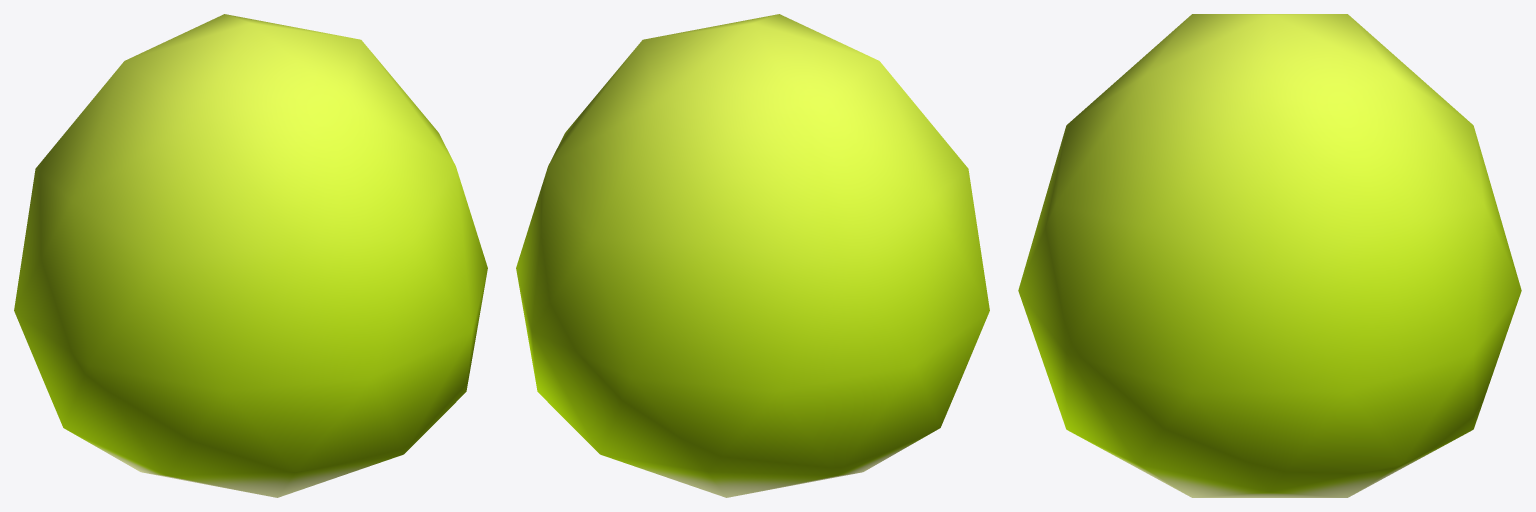
Rendered from Coconut.fbx.
The picture shows the model from 3 angles, left to right: view 1: azimuth 30°, elevation 25°; view 2: azimuth 150°, elevation 25°; view 3: azimuth 270°, elevation 25°; orthographic projection. The views are drawn at different scales.
Visible parts, largest first — view 1: NutExportMe; view 2: NutExportMe; view 3: NutExportMe.
Boxes of the visible parts, <box> form: NutExportMe: <box>14,14,487,497</box>; NutExportMe: <box>516,14,989,497</box>; NutExportMe: <box>1018,14,1521,497</box>.
Bounding box in the file's own units: 178 × 188 × 188.
